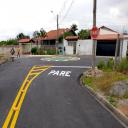Pare: (90, 27, 99, 39)
